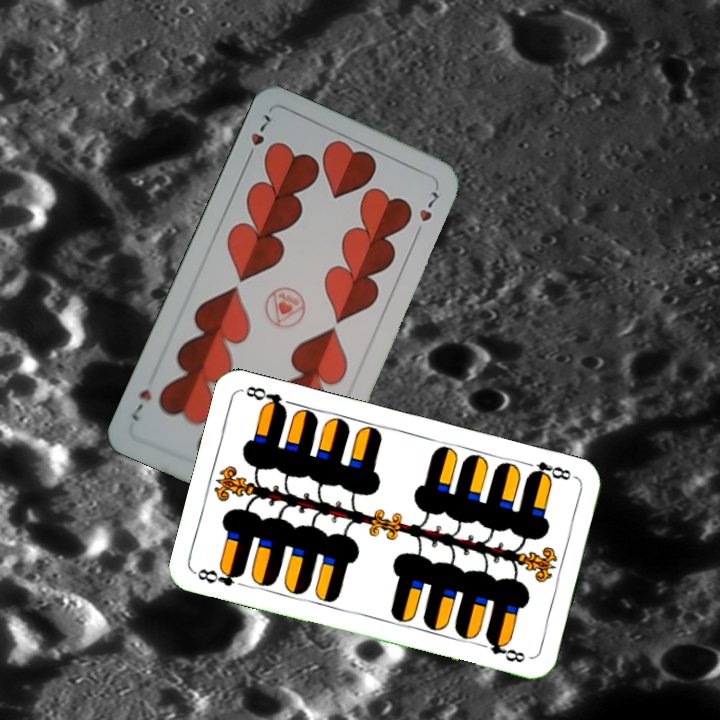E8: (520, 457, 574, 485), (192, 563, 247, 589)
H7: (242, 110, 274, 164)
